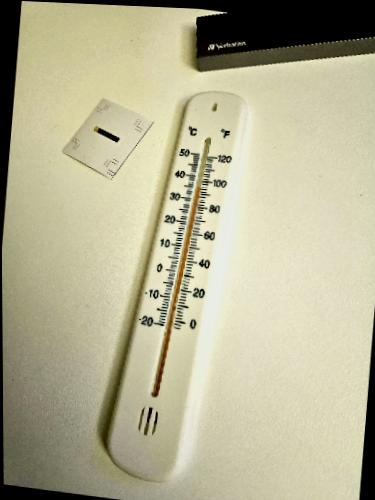thermo: (100, 78, 265, 483)
